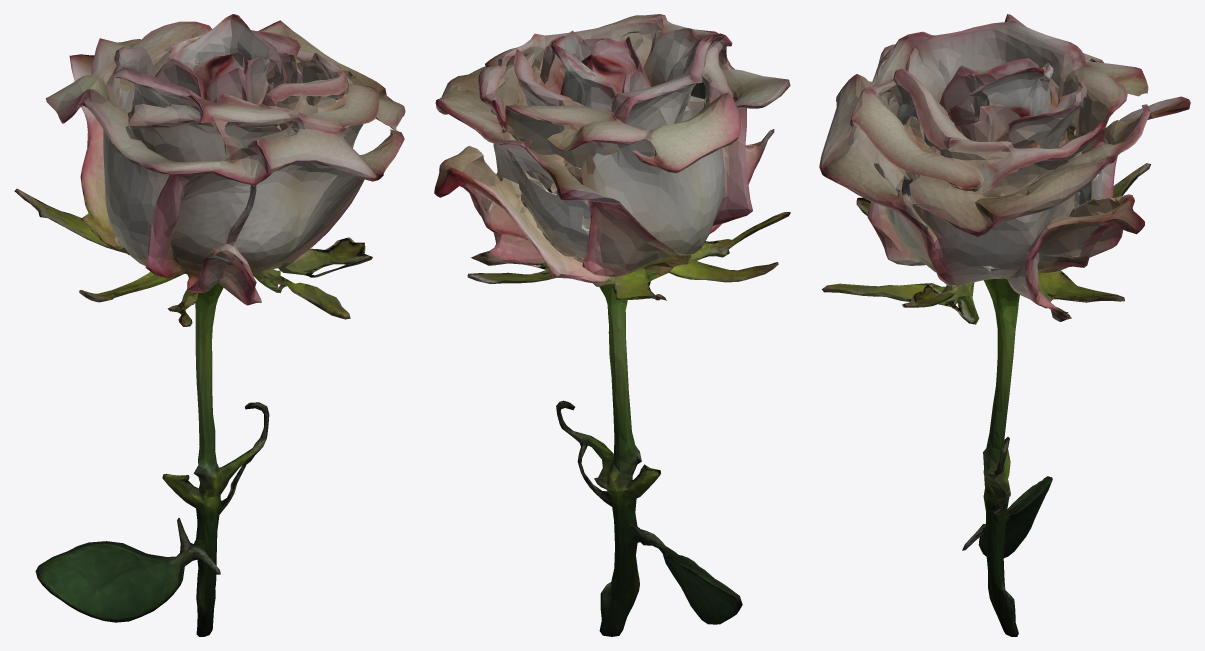
3 renders of one model, left to right at view 1: azimuth 30°, elevation 25°; view 2: azimuth 150°, elevation 25°; view 3: azimuth 270°, elevation 25°, orthographic.
Visible parts, largest first — view 1: world; view 2: world; view 3: world.
Boxes of the visible parts, x1,y1,x2,y2 form: world: (14,14,405,636); world: (434,14,790,636); world: (819,14,1190,636).
Size of the model in its own units: 0.5562 by 0.9638 by 0.551.
Materials: 1 (1 with a texture image).
